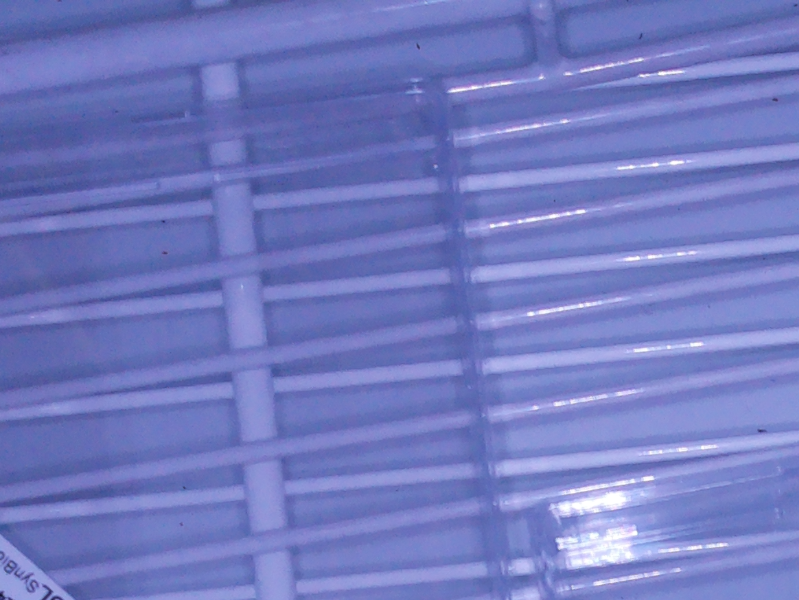plate: (1, 71, 511, 600), (529, 455, 799, 600)
